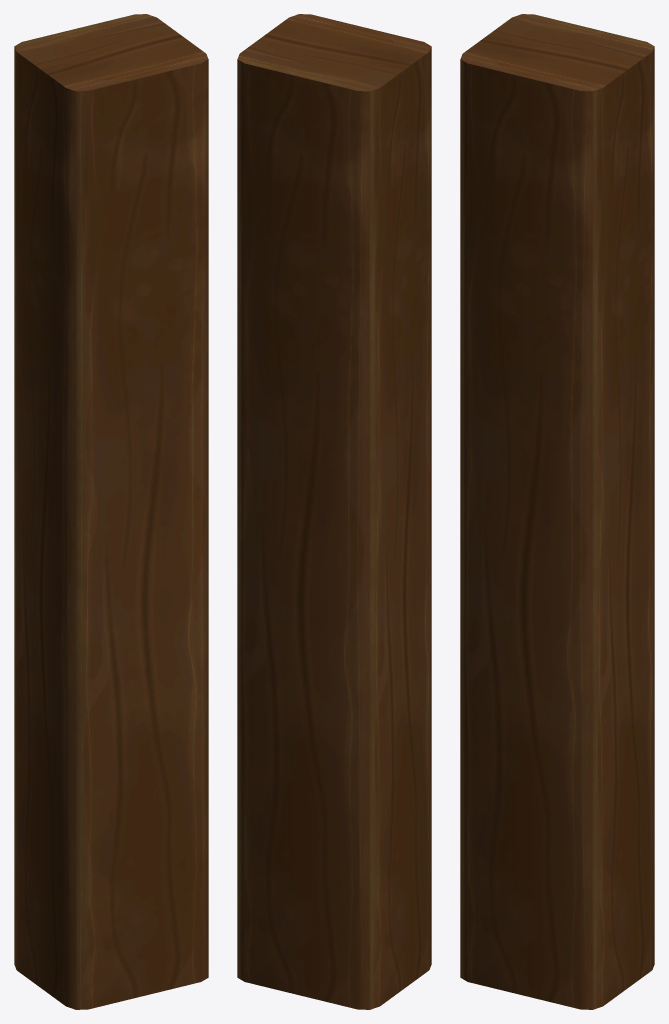
Rendered from SM_VerticalColumn_01.gltf.
3 views of the same model, side by side, from view 1: azimuth 30°, elevation 25°; view 2: azimuth 150°, elevation 25°; view 3: azimuth 330°, elevation 25° (orthographic).
Visible parts, largest first — view 1: SM_VerticalColumn_01; view 2: SM_VerticalColumn_01; view 3: SM_VerticalColumn_01.
Part boxes in pixels (x1,y1,x2,y2): SM_VerticalColumn_01: (14,14,208,1009); SM_VerticalColumn_01: (237,14,431,1009); SM_VerticalColumn_01: (460,14,654,1009).
Size of the model in its own units: 0.64 by 4 by 0.528.
1 material, 1 textured.
